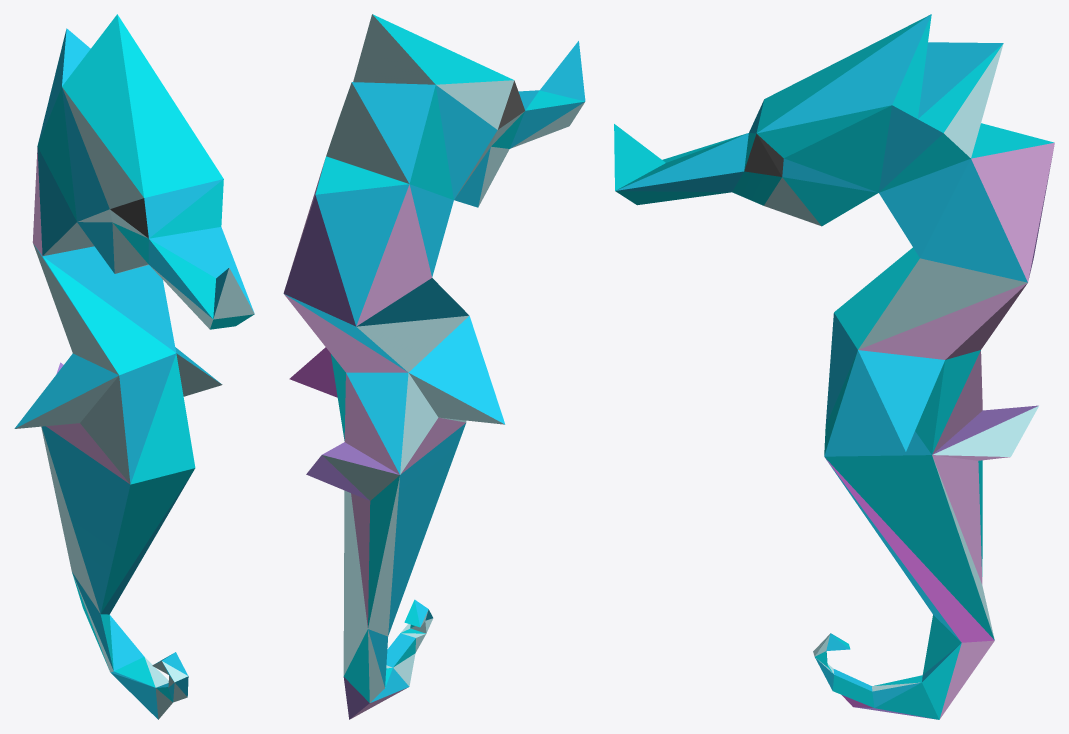
Rendered from arash_seahorse.gltf.
3 renders of one model, left to right at view 1: azimuth 30°, elevation 25°; view 2: azimuth 150°, elevation 25°; view 3: azimuth 270°, elevation 25°, orthographic. The views are drawn at different scales.
Parts seen in each view (by area): view 1: group1580007276; view 2: group1580007276; view 3: group1580007276.
Part boxes in pixels (x1,y1,x2,y2): group1580007276: [14, 14, 254, 719]; group1580007276: [283, 14, 585, 719]; group1580007276: [614, 14, 1054, 719].
Bounding box in the file's own units: 0.1999 × 0.6251 × 0.3584.
